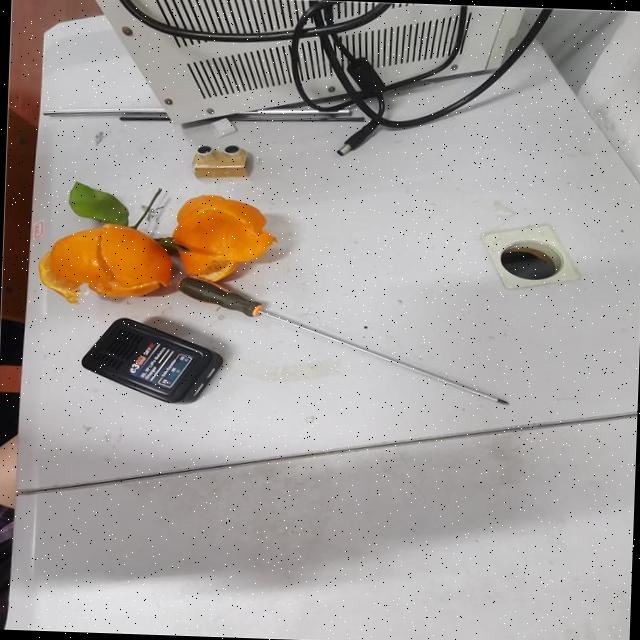orange-peel: (35, 186, 278, 310), (35, 218, 174, 305), (170, 190, 278, 284)
